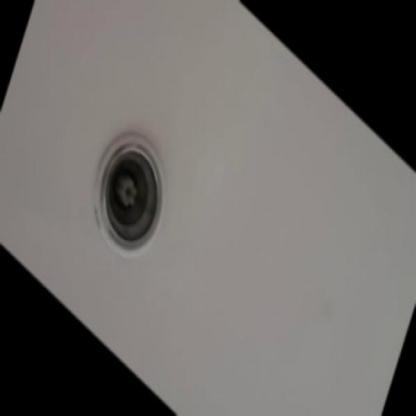light_off: (74, 83, 192, 293)
